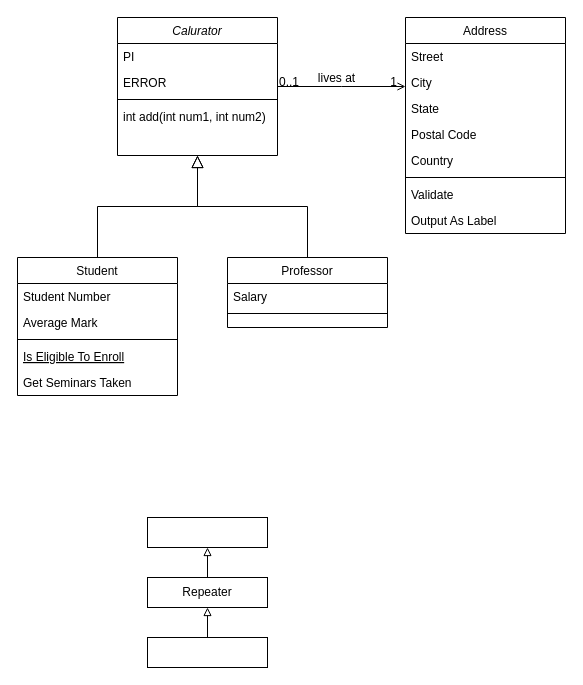
The diagram is 583 pixels wide and 685 high, and some of its shapes have lost their labels. The centre of each missing label's shape, as x and y in pixels:
Arithmatic: point (207, 652)
Calcurator: point (207, 532)
